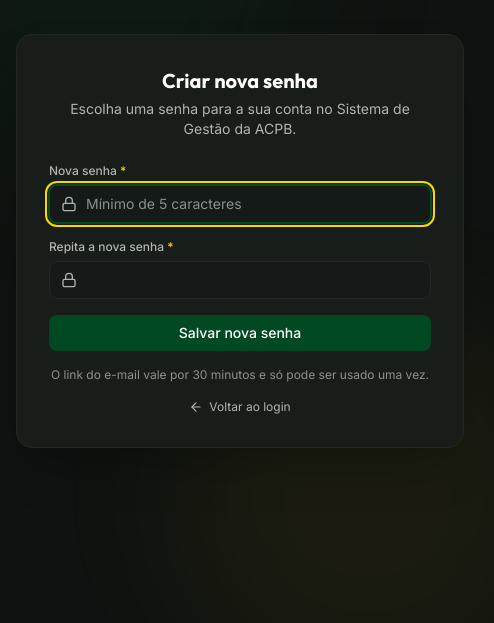
Test: RedefinirSenha › mostra o motivo quando o token esta expirado ou ja usado
This screenshot has width=494, height=623.
Type "senhaforte1" into the password field labelled "Nova senha *".
click(240, 204); type("senhaforte1")  # box top-left (49, 185), bottom-right (431, 223)
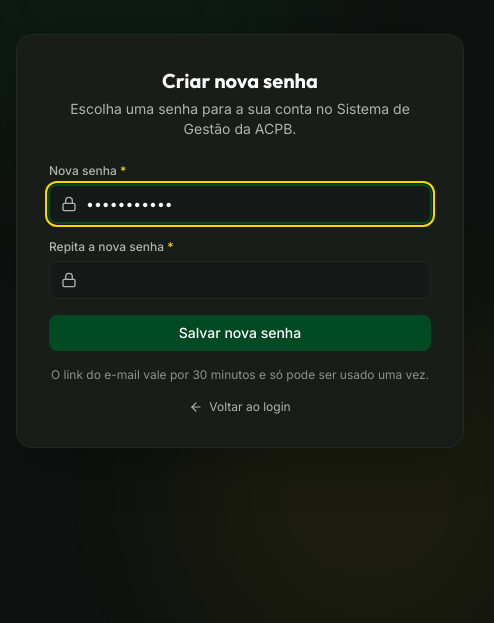
Type "senhaforte1" into the password field labelled "Repita a nova senha *".
click(240, 280); type("senhaforte1")  # box top-left (49, 261), bottom-right (431, 299)
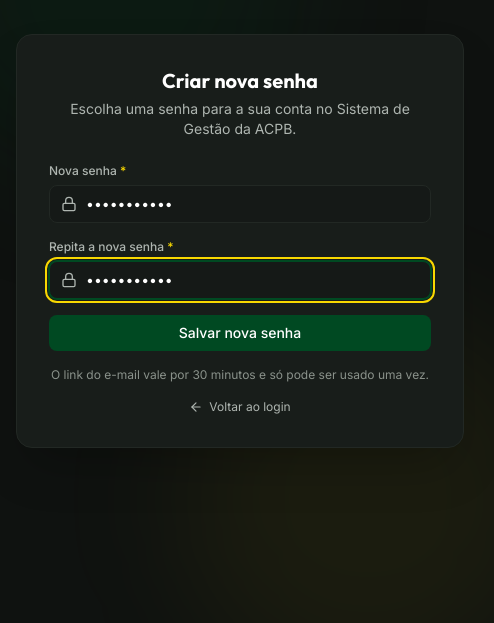
Click the button "Salvar nova senha".
click(240, 333)  # box top-left (49, 315), bottom-right (431, 351)
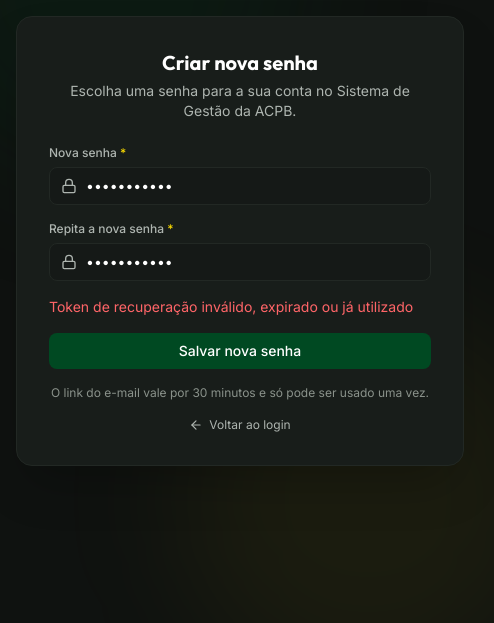
Check: the message shows "expirado ou já utilizado", box top-left (49, 298), bottom-right (413, 315)
